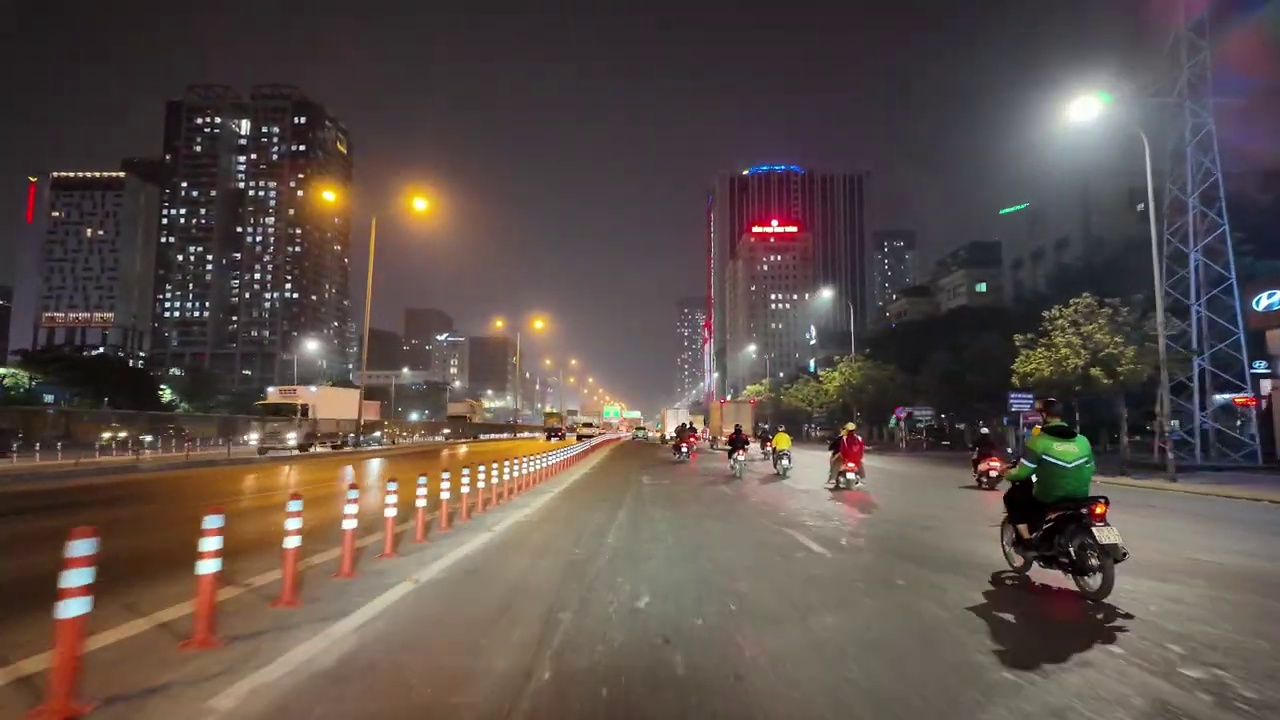acesa: (1062, 89, 1107, 126), (401, 187, 439, 224), (311, 182, 347, 214), (809, 284, 837, 312), (527, 311, 553, 338), (298, 336, 325, 361), (736, 341, 760, 365), (485, 314, 509, 337)
